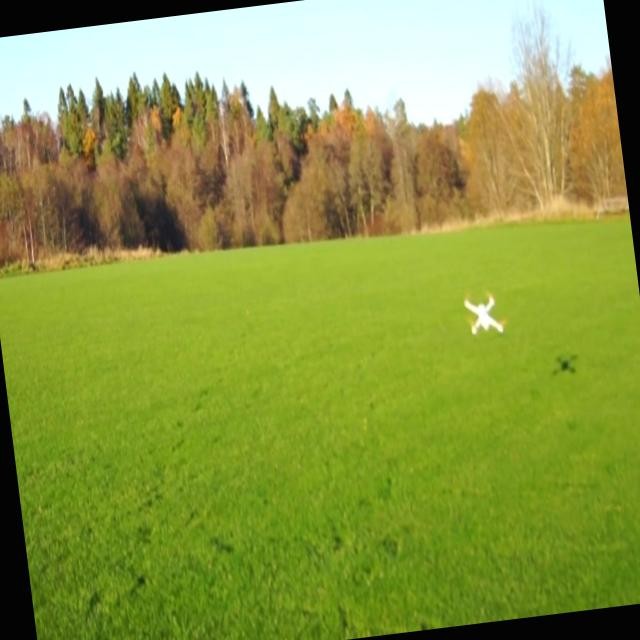drone: (460, 289, 506, 339)
